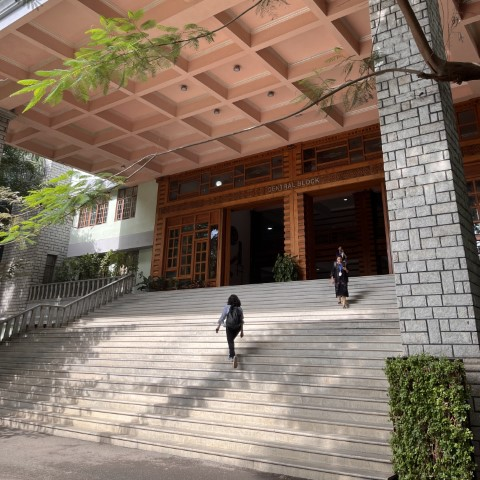Central Block: (2, 2, 480, 480)
